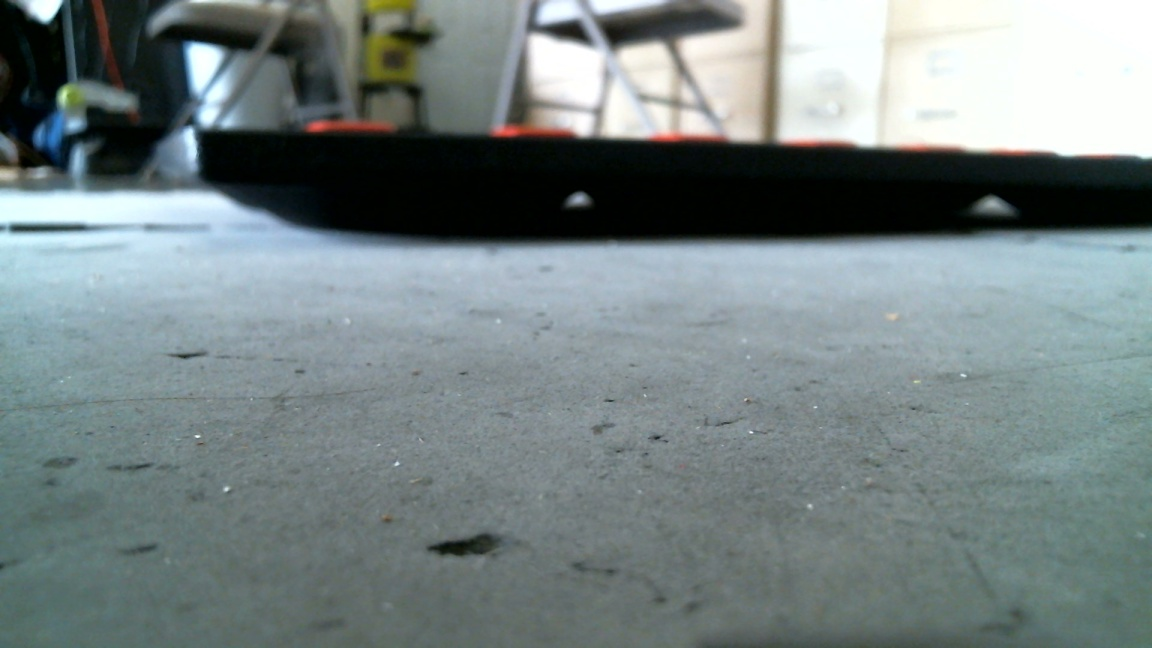red_foundation: (197, 119, 1152, 235)
